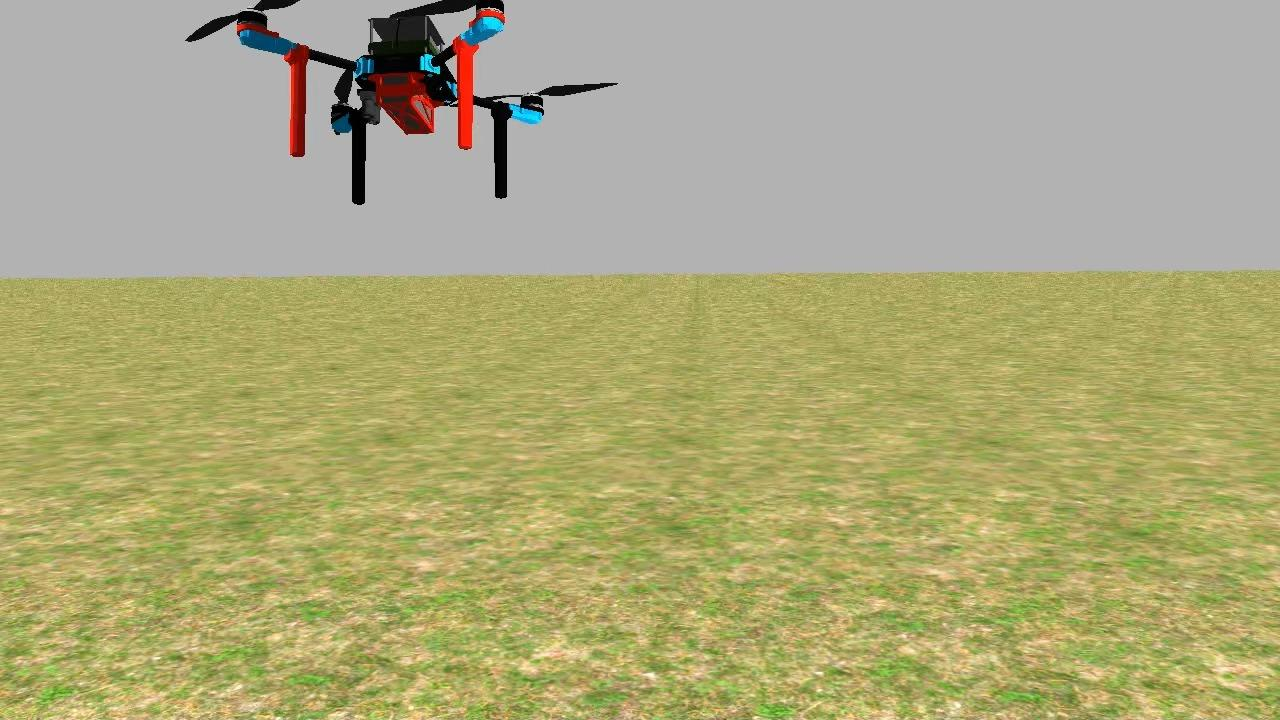UAV: (222, 0, 566, 202)
